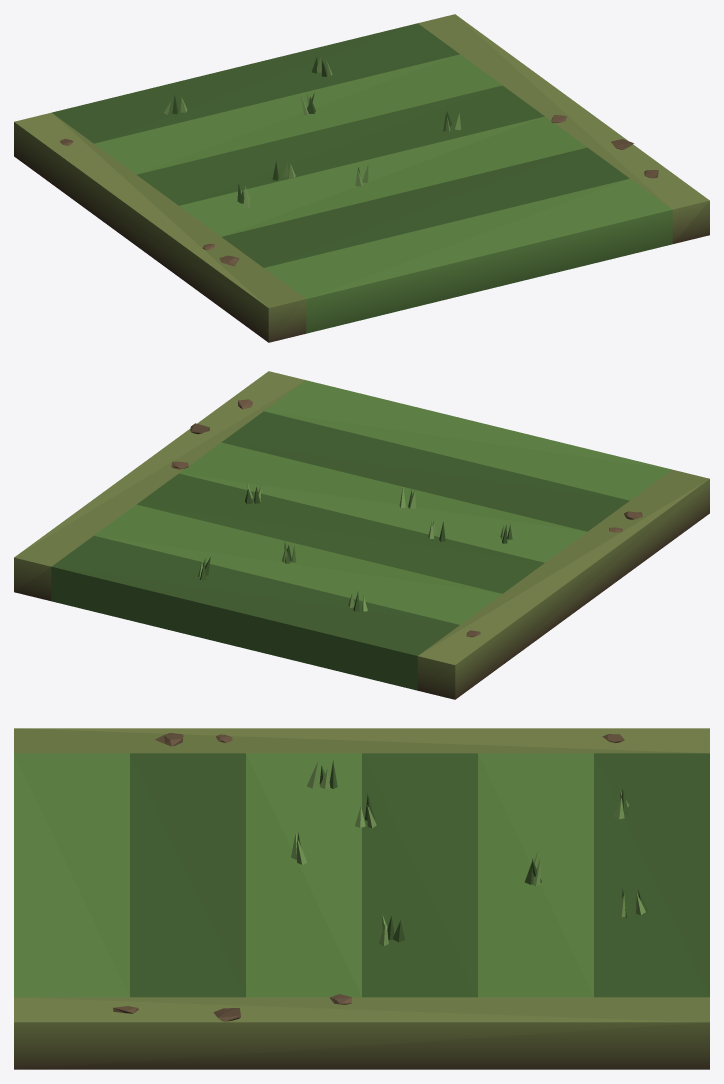
The model's file is grass-verge-tile.glb.
3 views of the same model, one above another, from view 1: azimuth 30°, elevation 25°; view 2: azimuth 150°, elevation 25°; view 3: azimuth 270°, elevation 25° (orthographic). The views are drawn at different scales.
Parts seen in each view (by area): view 1: grass_verge_tile; view 2: grass_verge_tile; view 3: grass_verge_tile.
Boxes of the visible parts, x1,y1,x2,y2 form: grass_verge_tile: (14, 14, 709, 342); grass_verge_tile: (14, 371, 709, 699); grass_verge_tile: (14, 728, 709, 1069).
Bounding box in the file's own units: 4.01 × 0.4754 × 4.
